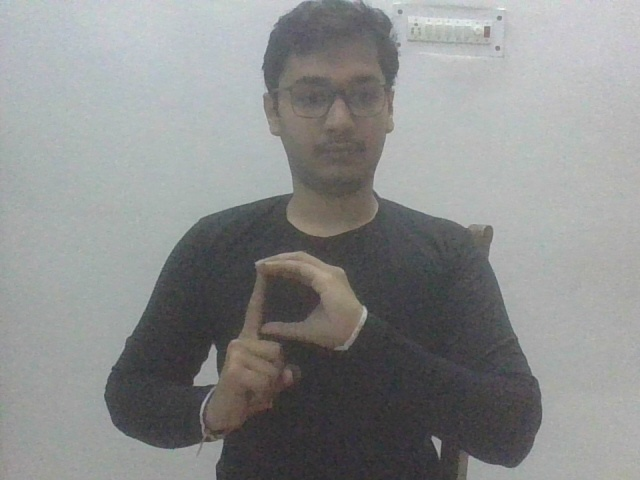D: (201, 249, 369, 440)
